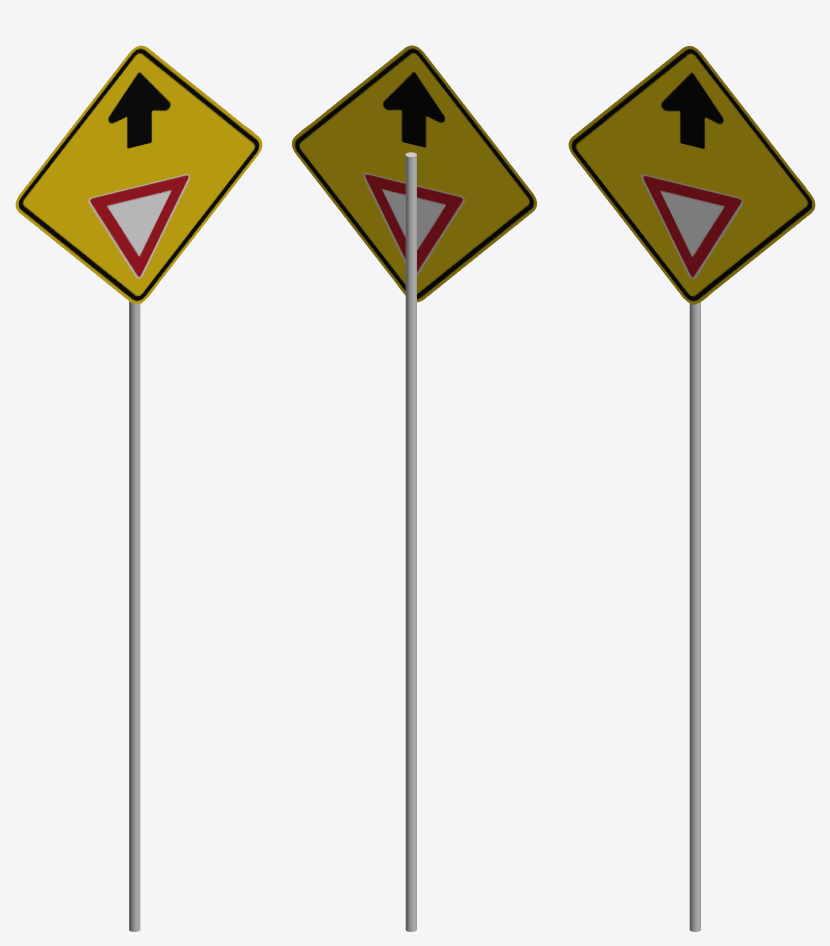
Rendered from beri laluan.fbx.
The picture shows the model from 3 angles, left to right: view 1: azimuth 30°, elevation 25°; view 2: azimuth 150°, elevation 25°; view 3: azimuth 330°, elevation 25°; orthographic projection.
Visible parts, largest first — view 1: Plane, Cylinder; view 2: Plane, Cylinder; view 3: Plane, Cylinder.
Part boxes in pixels (<box>): Plane: <box>15,45,262,304</box>; Cylinder: <box>129,301,140,931</box>; Plane: <box>292,45,536,302</box>; Cylinder: <box>405,152,416,931</box>; Plane: <box>568,46,815,304</box>; Cylinder: <box>689,302,700,931</box>.
Size of the model in its own units: 200 by 682 by 9.27.
